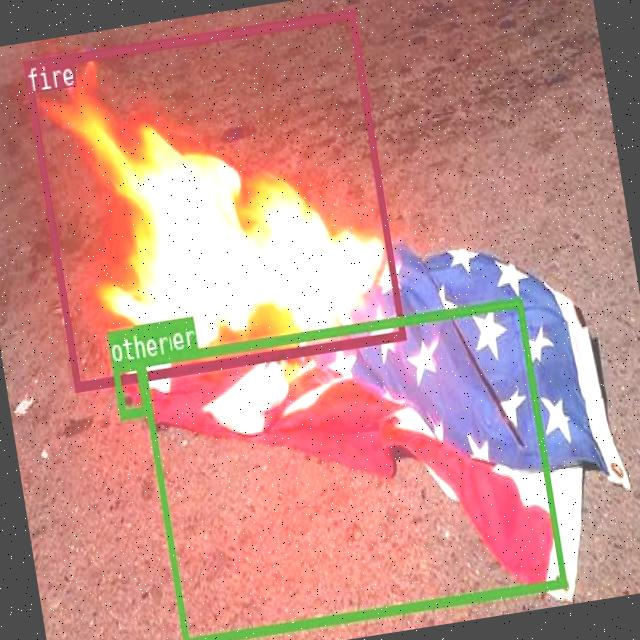fire: (23, 8, 405, 390)
